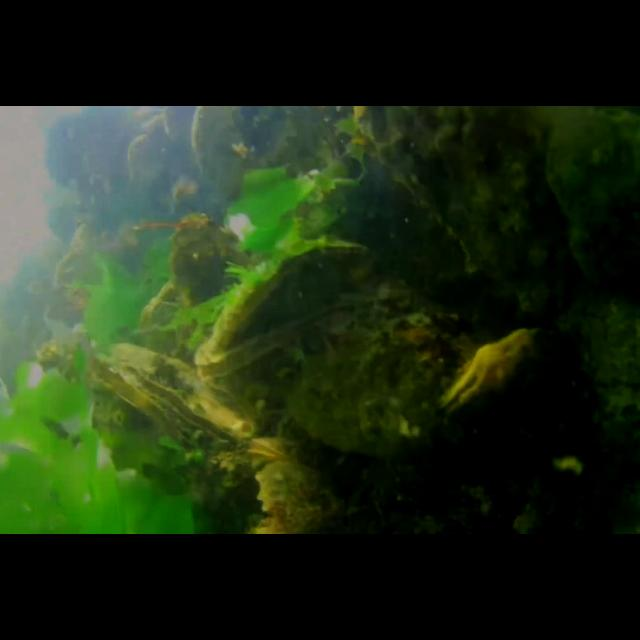Oyster-Closed: (368, 107, 590, 315), (187, 106, 365, 210), (542, 106, 640, 292), (552, 278, 640, 472), (168, 208, 258, 308)
Oyster-Open: (197, 282, 501, 464), (188, 240, 386, 364), (86, 341, 250, 457), (437, 324, 561, 426), (248, 432, 296, 466)
